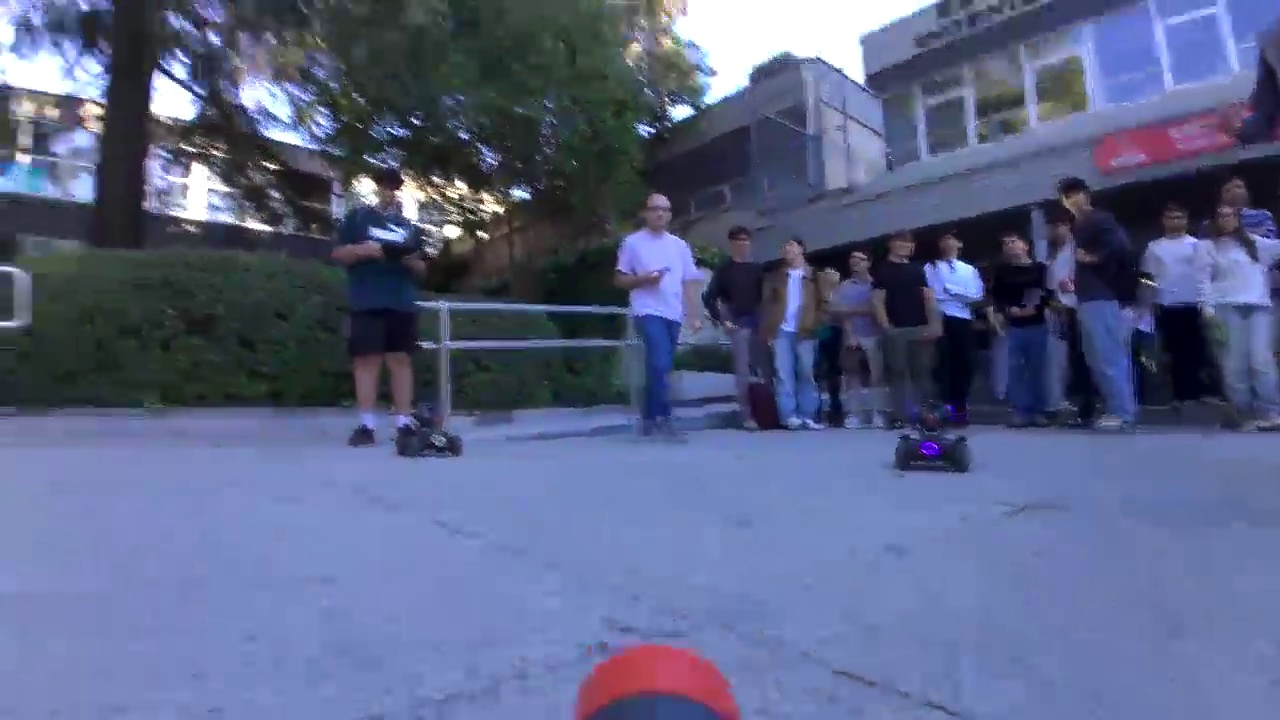robot: (890, 398, 977, 482), (385, 403, 461, 460)
